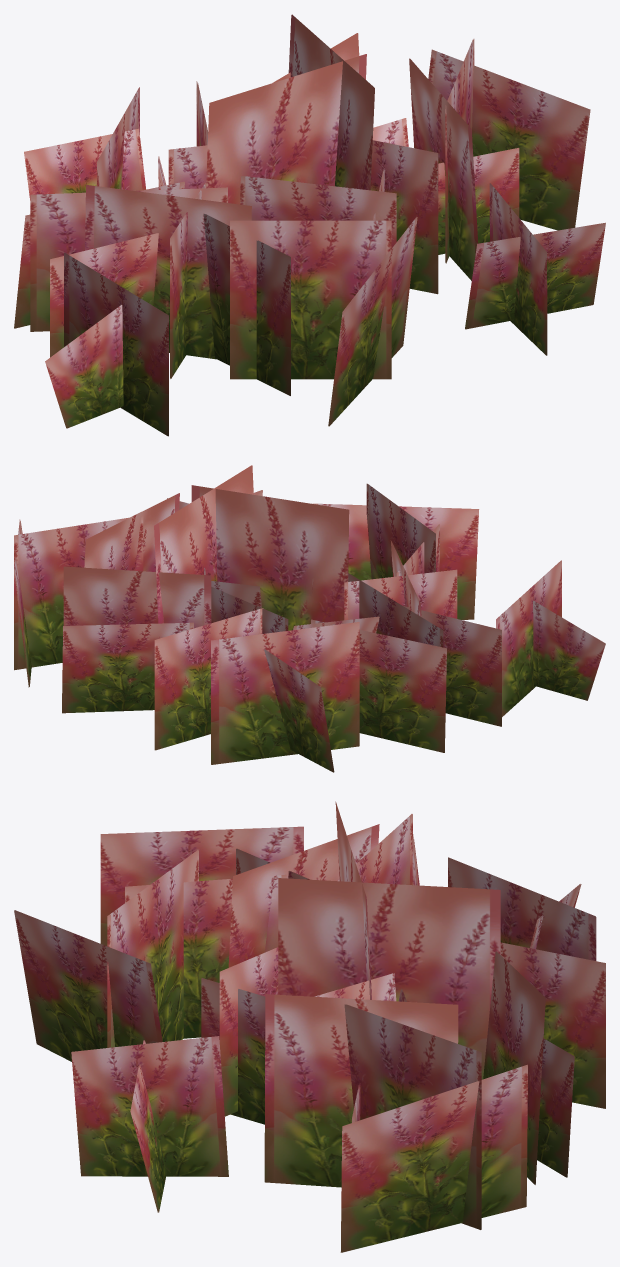
Rendered from new_grass_01.FBX.
The picture shows the model from 3 angles, top to bottom: view 1: azimuth 30°, elevation 25°; view 2: azimuth 150°, elevation 25°; view 3: azimuth 270°, elevation 25°; orthographic projection. The views are drawn at different scales.
Parts seen in each view (by area): view 1: new_grass_01; view 2: new_grass_01; view 3: new_grass_01.
Part boxes in pixels (<box>): new_grass_01: <box>14,14,605,436</box>; new_grass_01: <box>14,465,605,772</box>; new_grass_01: <box>14,801,605,1252</box>.
Bounding box in the file's own units: 245 × 85.88 × 181.
Materials: 1 (1 with a texture image).
